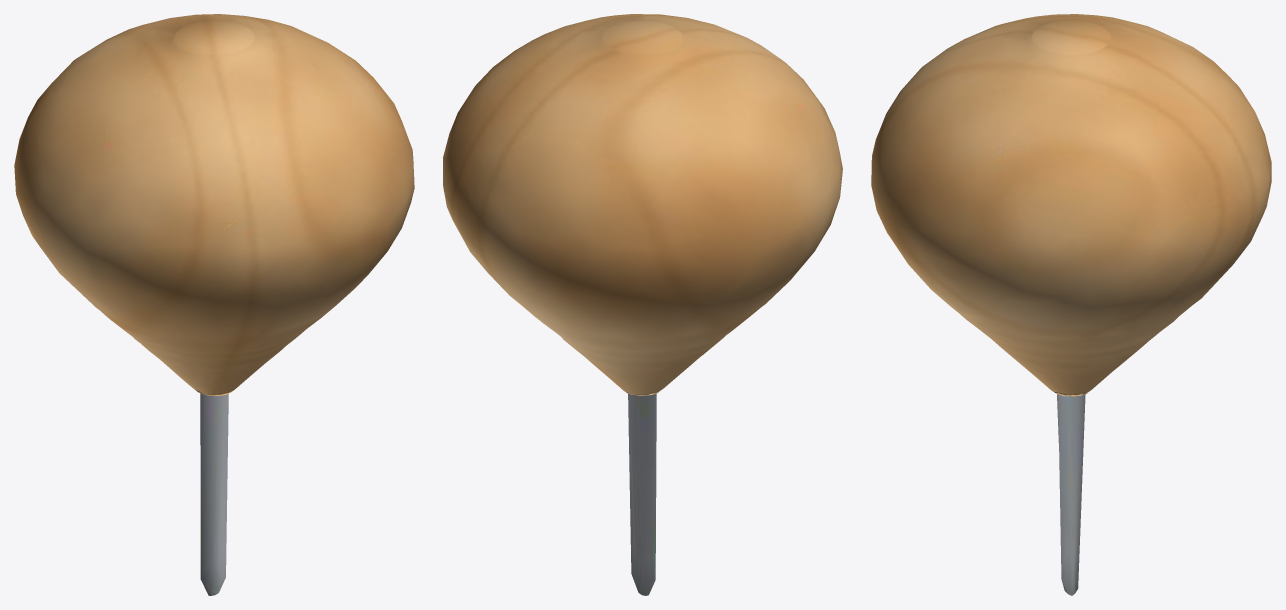
The model's file is trumpo.glb.
The picture shows the model from 3 angles, left to right: view 1: azimuth 30°, elevation 25°; view 2: azimuth 150°, elevation 25°; view 3: azimuth 270°, elevation 25°; orthographic projection.
Visible parts, largest first — view 1: Mesh0; view 2: Mesh0; view 3: Mesh0.
Boxes of the visible parts, x1,y1,x2,y2 form: Mesh0: (14, 14, 414, 595); Mesh0: (443, 14, 842, 595); Mesh0: (871, 14, 1271, 595).
Size of the model in its own units: 0.6501 by 0.9997 by 0.6487.
1 material, 1 textured.
